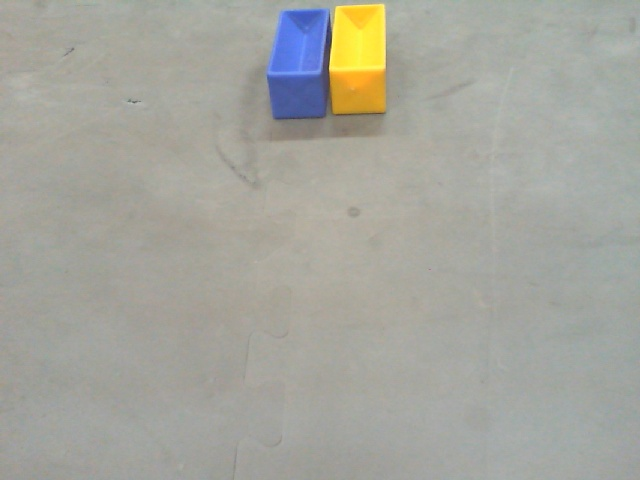BlueSample: (267, 6, 331, 120)
YellowSample: (327, 3, 387, 118)
